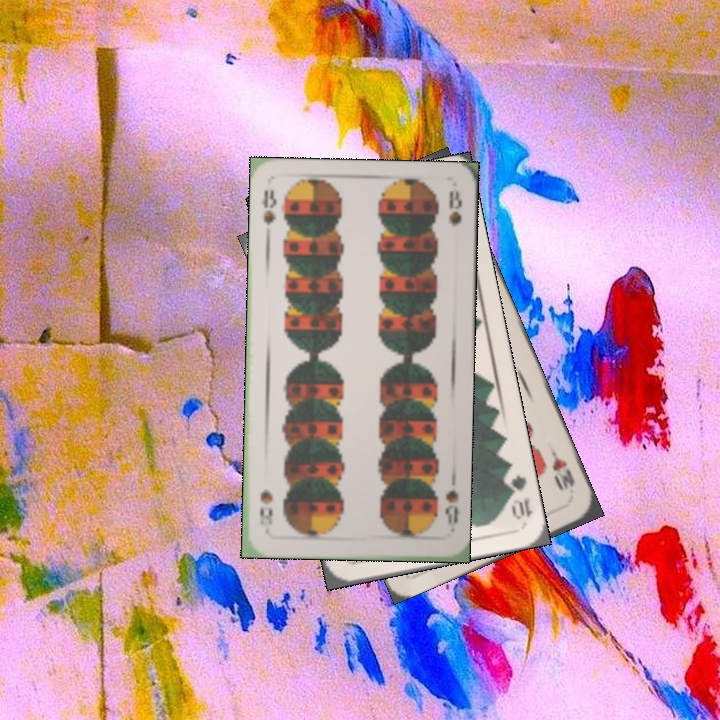G10: (502, 470, 535, 522)
H10: (546, 444, 578, 495)
S8: (258, 185, 279, 242), (441, 486, 461, 530)
